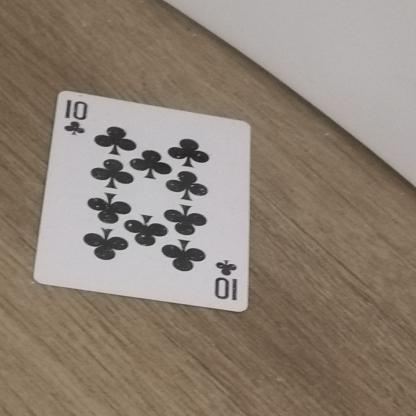10C: (206, 251, 243, 304), (60, 97, 94, 141)
